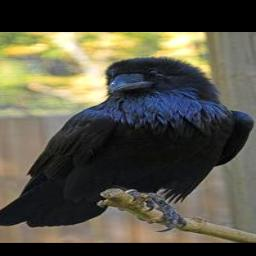Crow: (0, 55, 255, 232)
